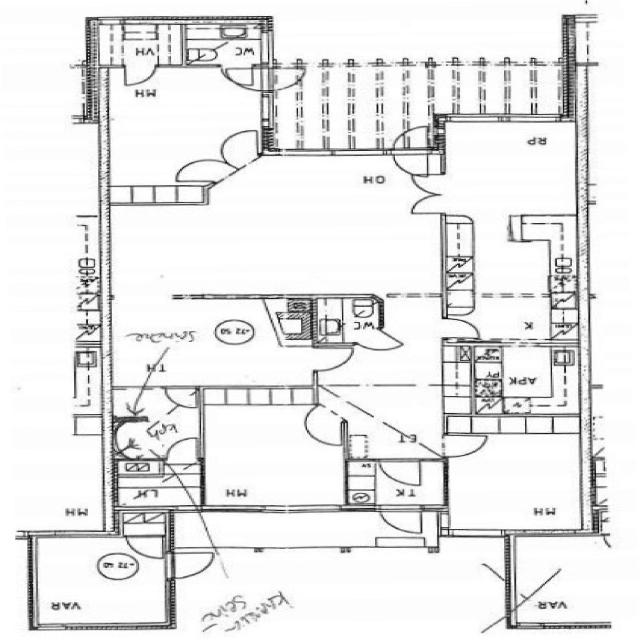door: (389, 126, 432, 175), (302, 403, 347, 446), (166, 546, 220, 580), (407, 172, 446, 216), (376, 504, 425, 537), (218, 128, 262, 164), (309, 342, 358, 374), (170, 157, 222, 185), (377, 458, 425, 488), (440, 432, 492, 458), (122, 533, 168, 561), (438, 315, 484, 341), (162, 436, 202, 464), (221, 64, 260, 90), (162, 386, 202, 410), (394, 125, 432, 150), (122, 64, 158, 88), (269, 66, 303, 90)
window: (442, 112, 563, 127), (263, 504, 342, 516), (355, 379, 379, 388)
zone: (102, 64, 252, 192), (200, 388, 345, 510), (446, 212, 576, 346), (444, 416, 587, 535), (116, 299, 308, 387), (30, 534, 172, 629), (443, 120, 579, 217), (341, 382, 444, 459), (472, 345, 581, 415), (110, 389, 202, 462), (112, 460, 202, 510), (93, 21, 184, 66), (316, 297, 384, 345), (183, 32, 264, 66)
